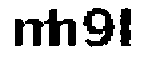9: (81, 6, 116, 48)
h: (49, 6, 78, 51)
l: (118, 4, 140, 49)
m: (11, 17, 54, 51)
